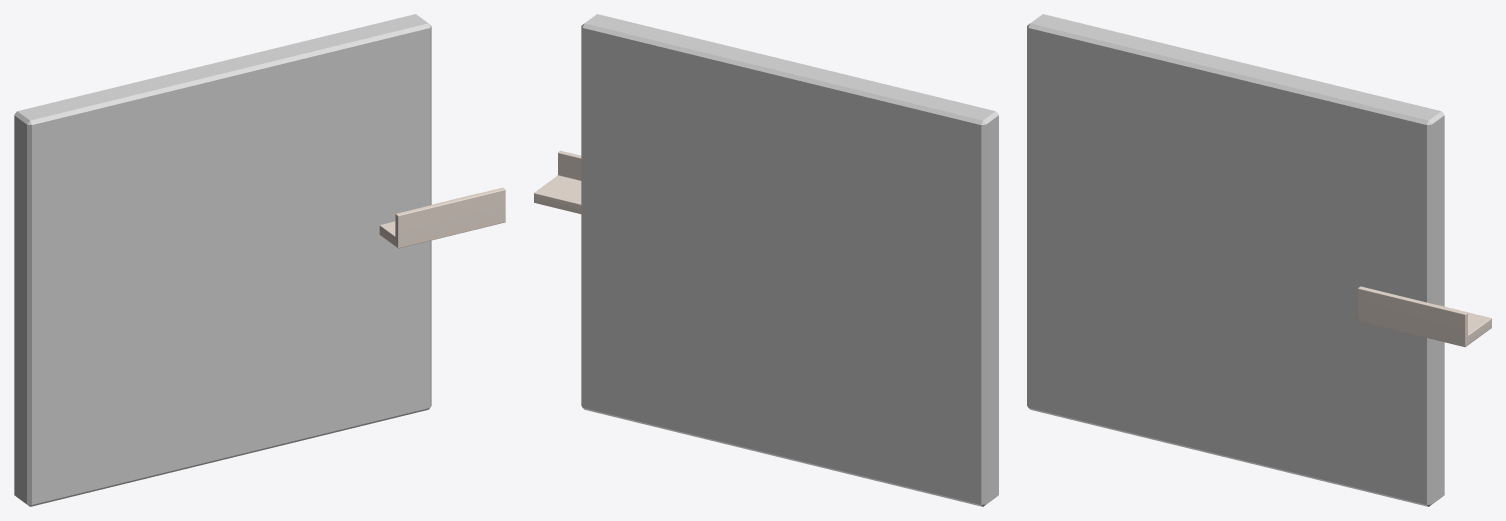
The model's file is Cabinet_30a0831d.obj.
The picture shows the model from 3 angles, left to right: view 1: azimuth 30°, elevation 25°; view 2: azimuth 150°, elevation 25°; view 3: azimuth 330°, elevation 25°; orthographic projection.
Visible parts, largest first — view 1: DoorRightMesh_01_2a4d7593, handle_3_76mm_01_afb7c6cb; view 2: DoorRightMesh_01_2a4d7593, handle_3_76mm_01_afb7c6cb; view 3: DoorRightMesh_01_2a4d7593, handle_3_76mm_01_afb7c6cb.
Boxes of the visible parts, x1,y1,x2,y2 form: DoorRightMesh_01_2a4d7593: (14,14,431,506); handle_3_76mm_01_afb7c6cb: (379,187,505,248); DoorRightMesh_01_2a4d7593: (581,14,998,506); handle_3_76mm_01_afb7c6cb: (534,150,581,213); DoorRightMesh_01_2a4d7593: (1027,14,1444,506); handle_3_76mm_01_afb7c6cb: (1357,286,1491,347).
Bounding box in the file's own units: 0.323 × 0.26 × 0.0426.
